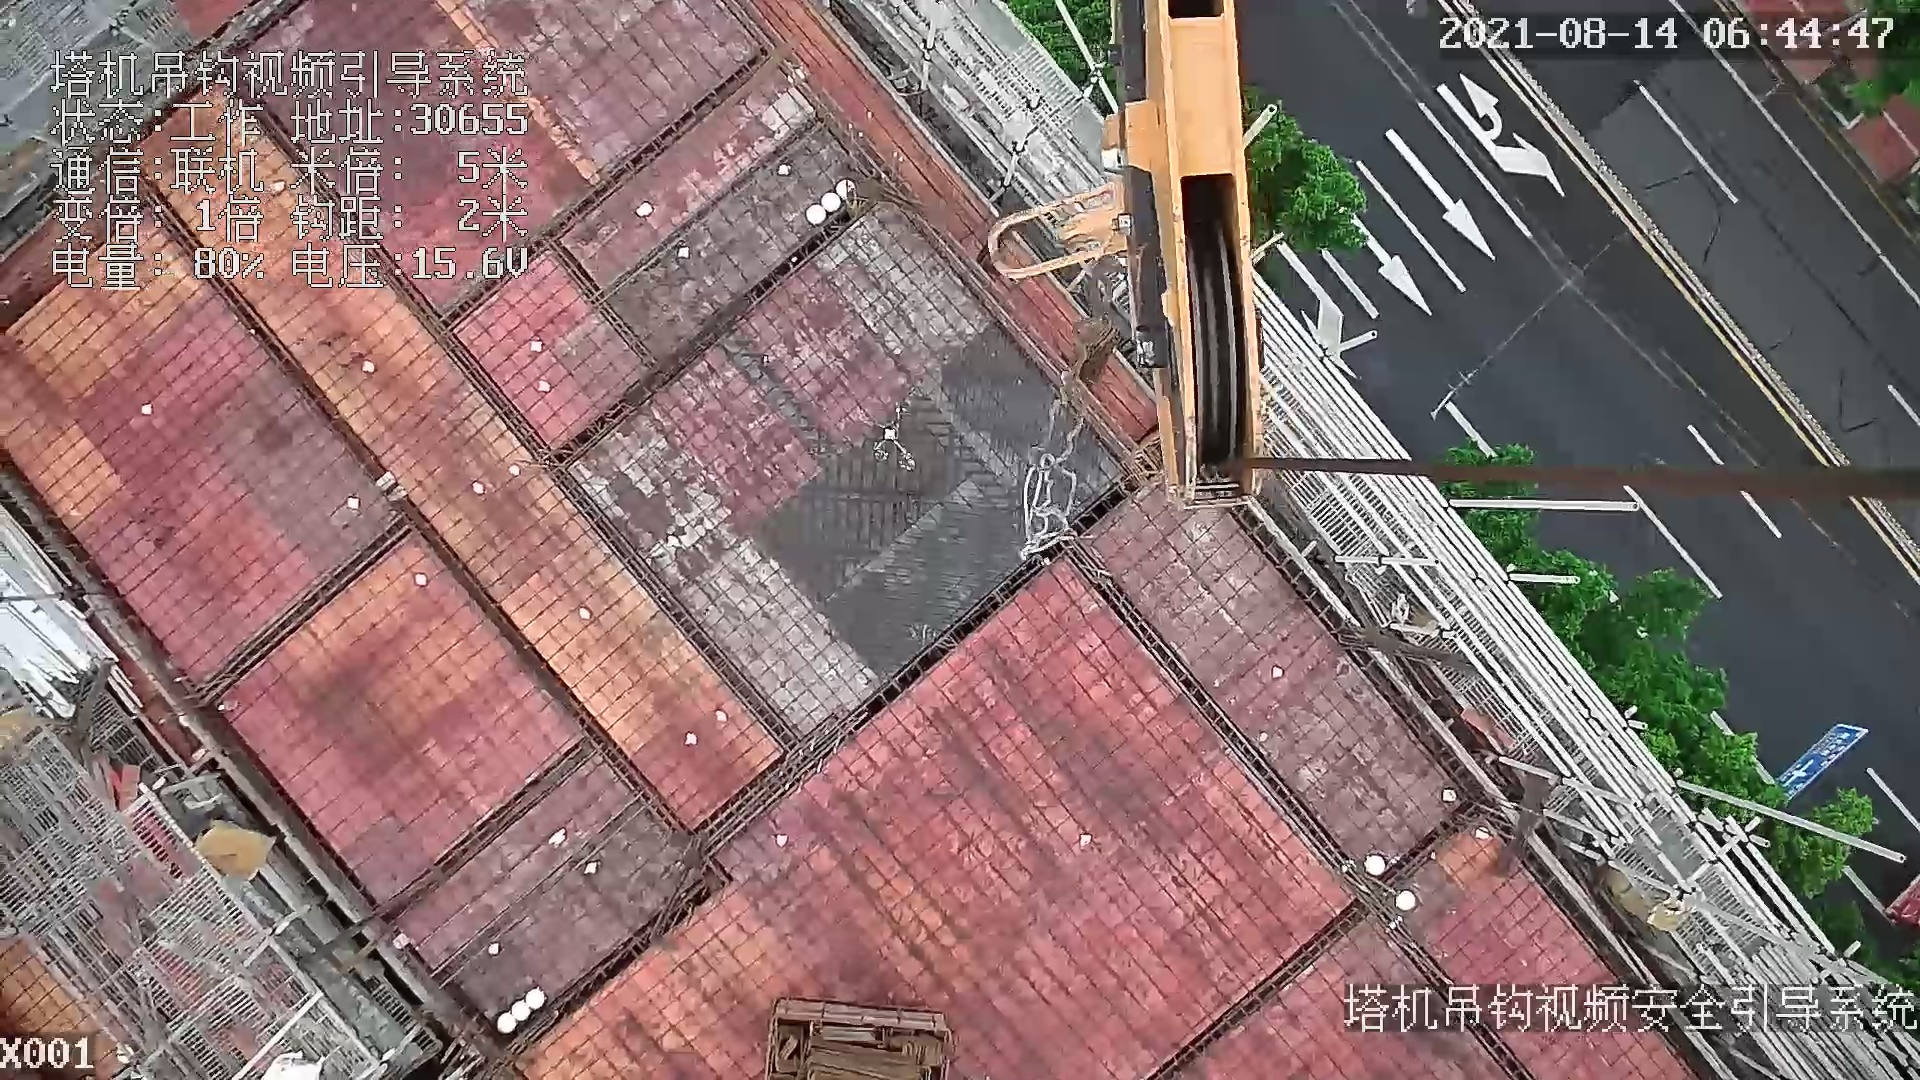hook: (978, 7, 1270, 513)
